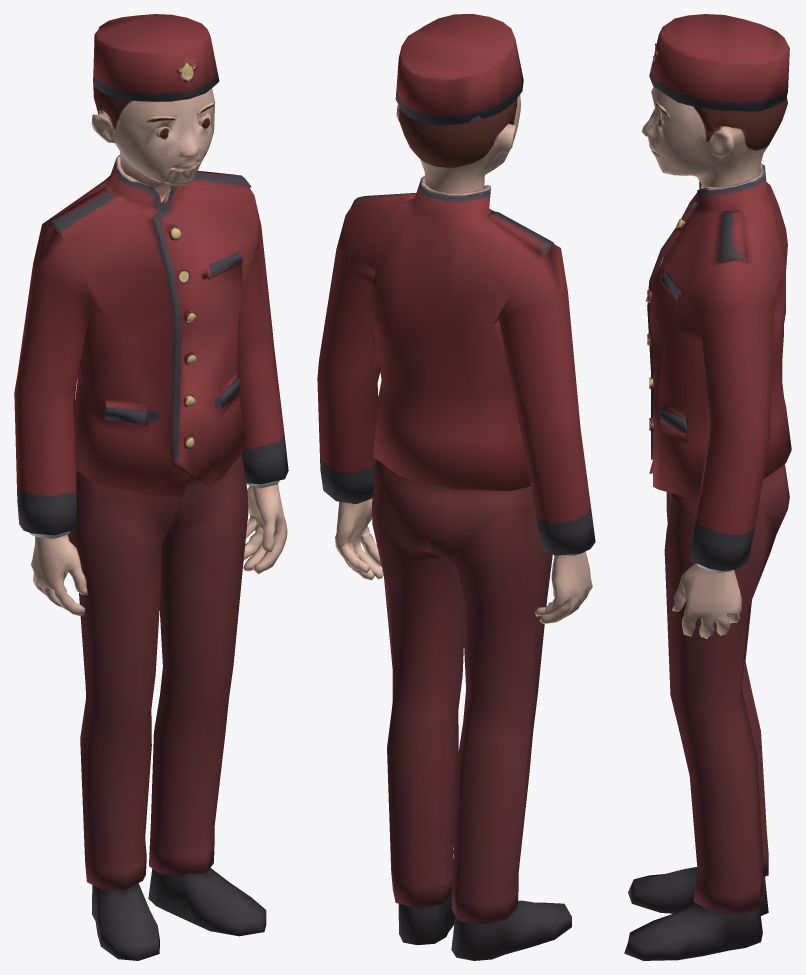
Rendered from original_glb.glb.
The picture shows the model from 3 angles, left to right: view 1: azimuth 30°, elevation 25°; view 2: azimuth 150°, elevation 25°; view 3: azimuth 270°, elevation 25°; orthographic projection.
Parts seen in each view (by area): view 1: Bellhop; view 2: Bellhop; view 3: Bellhop.
Boxes of the visible parts, x1,y1,x2,y2 form: Bellhop: (14,14,288,960); Bellhop: (317,14,595,960); Bellhop: (624,14,791,960).
Bounding box in the file's own units: 0.3066 × 0.998 × 0.1699.
1 material, 1 textured.
